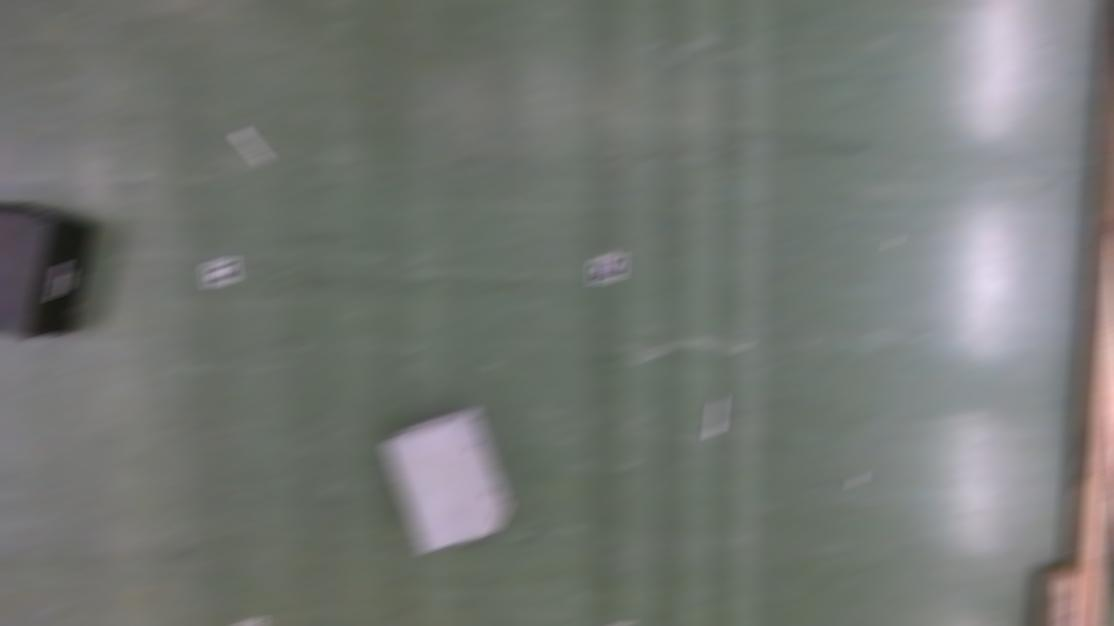probes: (234, 128, 268, 163), (708, 395, 724, 435)
rako: (382, 404, 511, 550), (0, 203, 95, 336)
